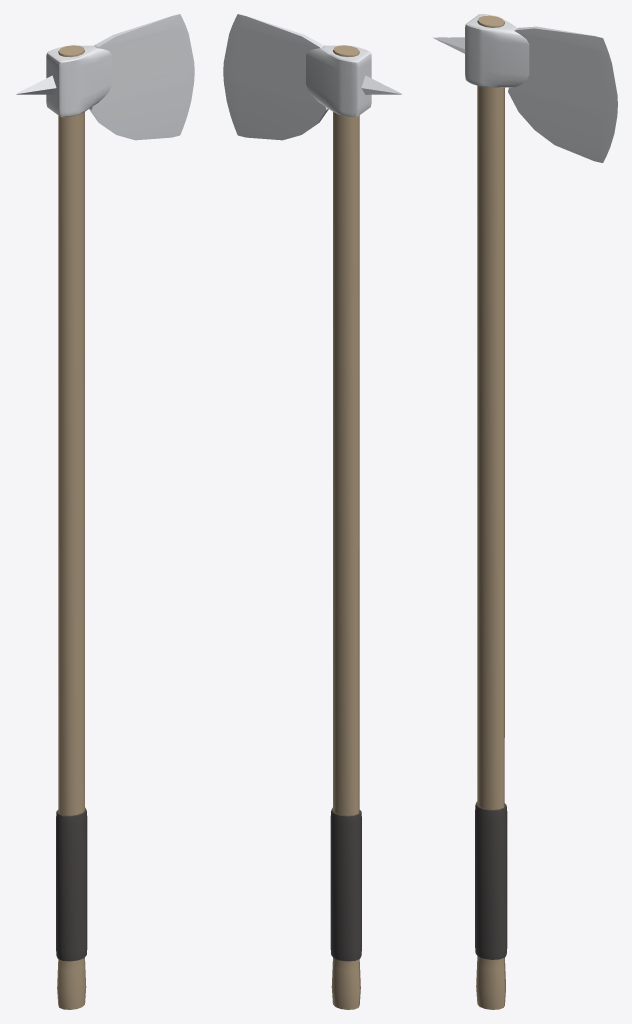
Rendered from asset.glb.
The picture shows the model from 3 angles, left to right: view 1: azimuth 30°, elevation 25°; view 2: azimuth 150°, elevation 25°; view 3: azimuth 330°, elevation 25°; orthographic projection. The views are drawn at different scales.
Visible parts, largest first — view 1: haft, bit, grip, head; view 2: haft, bit, grip, head; view 3: haft, bit, grip, head.
Part boxes in pixels (<box>): haft: <box>57,45,86,1009</box>; bit: <box>89,14,194,140</box>; grip: <box>56,807,87,961</box>; head: <box>15,45,111,117</box>; haft: <box>331,45,360,1009</box>; bit: <box>223,14,328,140</box>; grip: <box>330,807,361,961</box>; head: <box>306,45,402,117</box>; haft: <box>476,15,505,1009</box>; bit: <box>508,26,617,162</box>; grip: <box>475,801,507,959</box>; head: <box>433,14,529,87</box>.
Bounding box in the file's own units: 0.2304 × 1.18 × 0.037.
